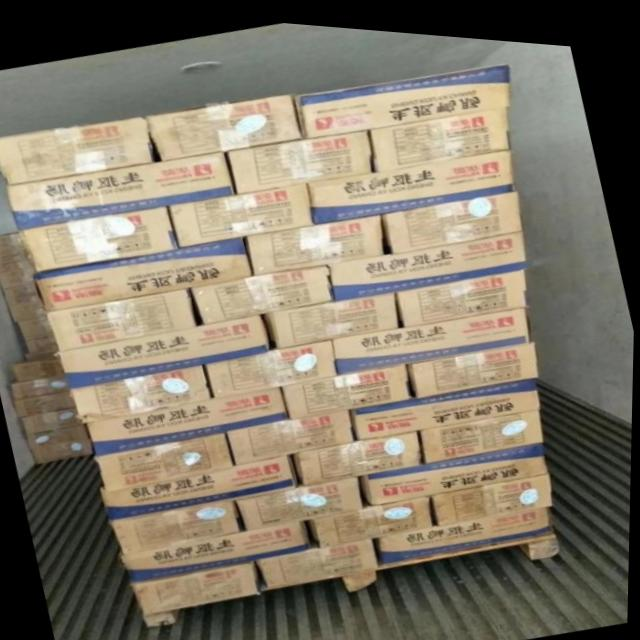box: (7, 147, 233, 229), (35, 231, 254, 311), (294, 54, 510, 133), (62, 309, 273, 387), (307, 142, 515, 218), (326, 221, 527, 295), (87, 381, 289, 454), (331, 297, 530, 367), (104, 449, 299, 520), (124, 514, 313, 581), (352, 369, 543, 435), (362, 433, 550, 499), (143, 88, 306, 158), (0, 113, 156, 185), (19, 202, 179, 271), (379, 497, 554, 558), (45, 284, 197, 350), (226, 123, 374, 190), (167, 179, 314, 244), (370, 97, 508, 165), (380, 182, 522, 247), (193, 258, 334, 321), (70, 360, 213, 422), (247, 207, 384, 271), (97, 427, 235, 489), (206, 333, 339, 394), (263, 284, 398, 344), (399, 258, 528, 320), (407, 333, 539, 391), (228, 402, 354, 461), (282, 356, 410, 414), (113, 494, 241, 552), (292, 424, 423, 480), (133, 556, 261, 613), (305, 488, 436, 542), (238, 470, 364, 526), (419, 401, 545, 456), (431, 464, 554, 518), (259, 532, 380, 581)
